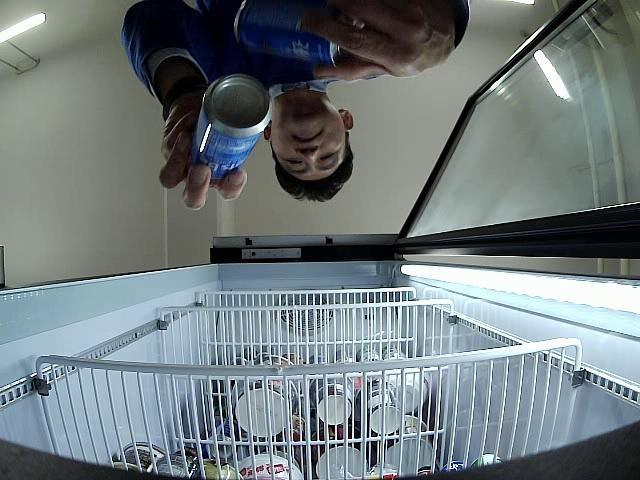15_letsbe: (193, 75, 275, 179), (234, 0, 346, 68)
